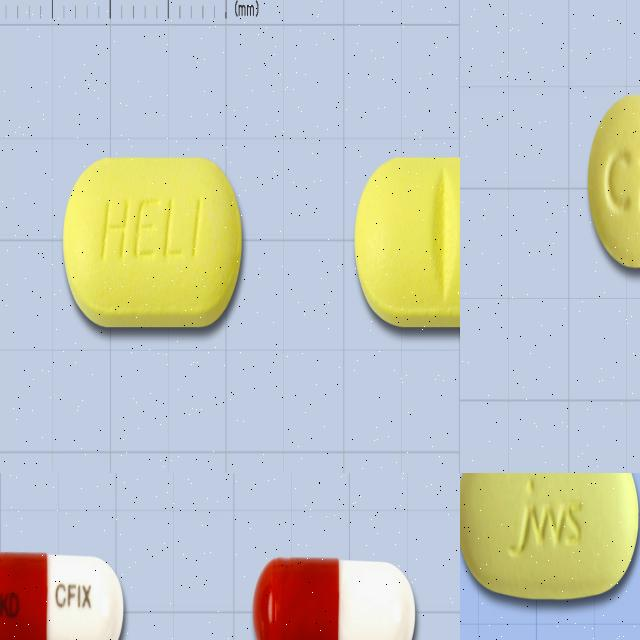Globit: (586, 92, 640, 273)
Helico: (63, 157, 244, 329), (353, 154, 460, 328)
Liamclo: (460, 473, 638, 600)
Pocef Cap: (252, 558, 417, 640), (0, 550, 124, 640)
